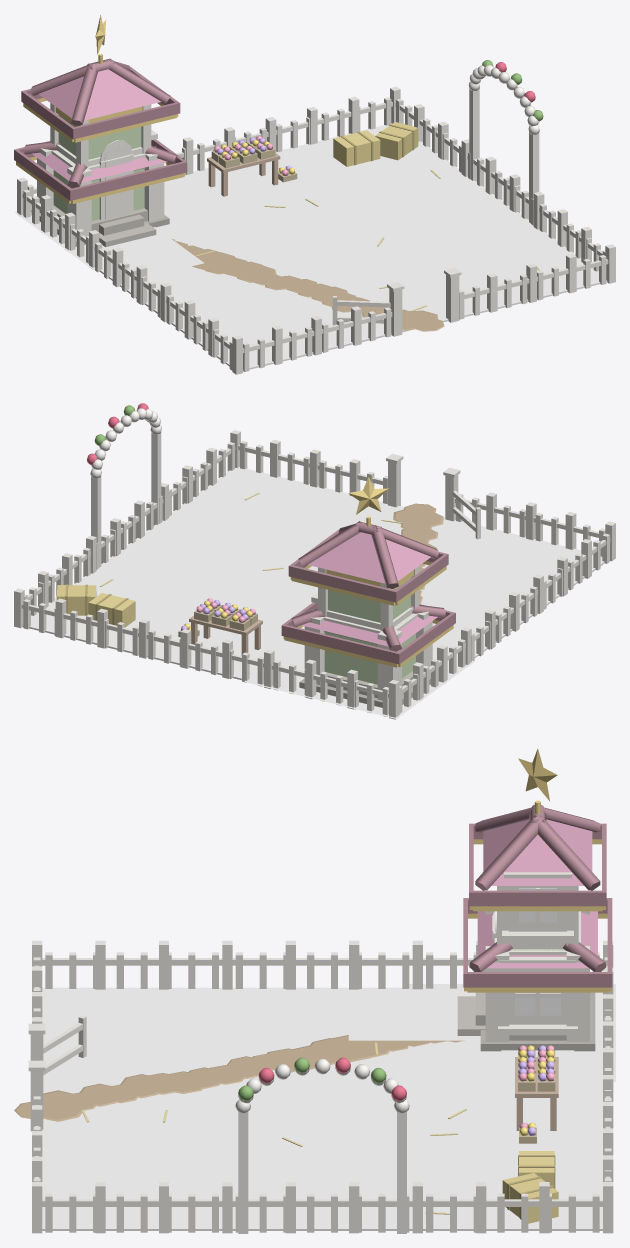
File: bloom_garden_2.glb
3 views of the same model, one above another, from view 1: azimuth 30°, elevation 25°; view 2: azimuth 150°, elevation 25°; view 3: azimuth 270°, elevation 25° (orthographic). The views are drawn at different scales.
Parts seen in each view (by area): view 1: body5, bloom_garden_2, body, body4; view 2: body5, bloom_garden_2, body4, body2; view 3: body5, bloom_garden_2, body4.
Boxes of the visible parts, x1,y1,x2,y2 form: body5: (14,15,615,374); bloom_garden_2: (14,176,247,276); body: (104,155,130,219); body4: (247,136,297,182); body5: (14,403,615,719); bloom_garden_2: (221,632,474,718); body4: (178,598,222,637); body2: (229,607,257,630); body5: (14,748,613,1233); bloom_garden_2: (348,984,615,1105); body4: (518,1068,555,1143).
Bounding box in the file's own units: 2.78 × 1.41 × 2.8.
